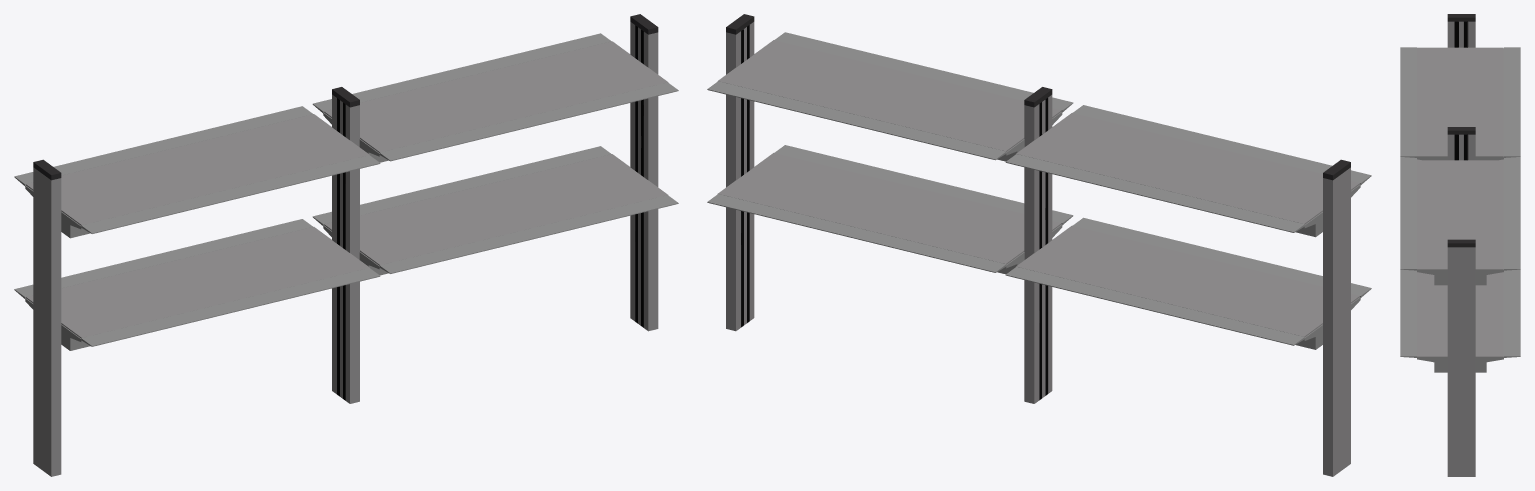
File: Structure.FBX
The picture shows the model from 3 angles, left to right: view 1: azimuth 30°, elevation 25°; view 2: azimuth 150°, elevation 25°; view 3: azimuth 270°, elevation 25°; orthographic projection. The views are drawn at different scales.
Parts seen in each view (by area): view 1: Structure; view 2: Structure; view 3: Structure.
Part boxes in pixels (x1,y1,x2,y2): Structure: (14, 14, 678, 476); Structure: (707, 14, 1371, 476); Structure: (1400, 14, 1520, 476).
Size of the model in its own units: 2281 by 507 by 1083.
3 materials, 1 textured.
